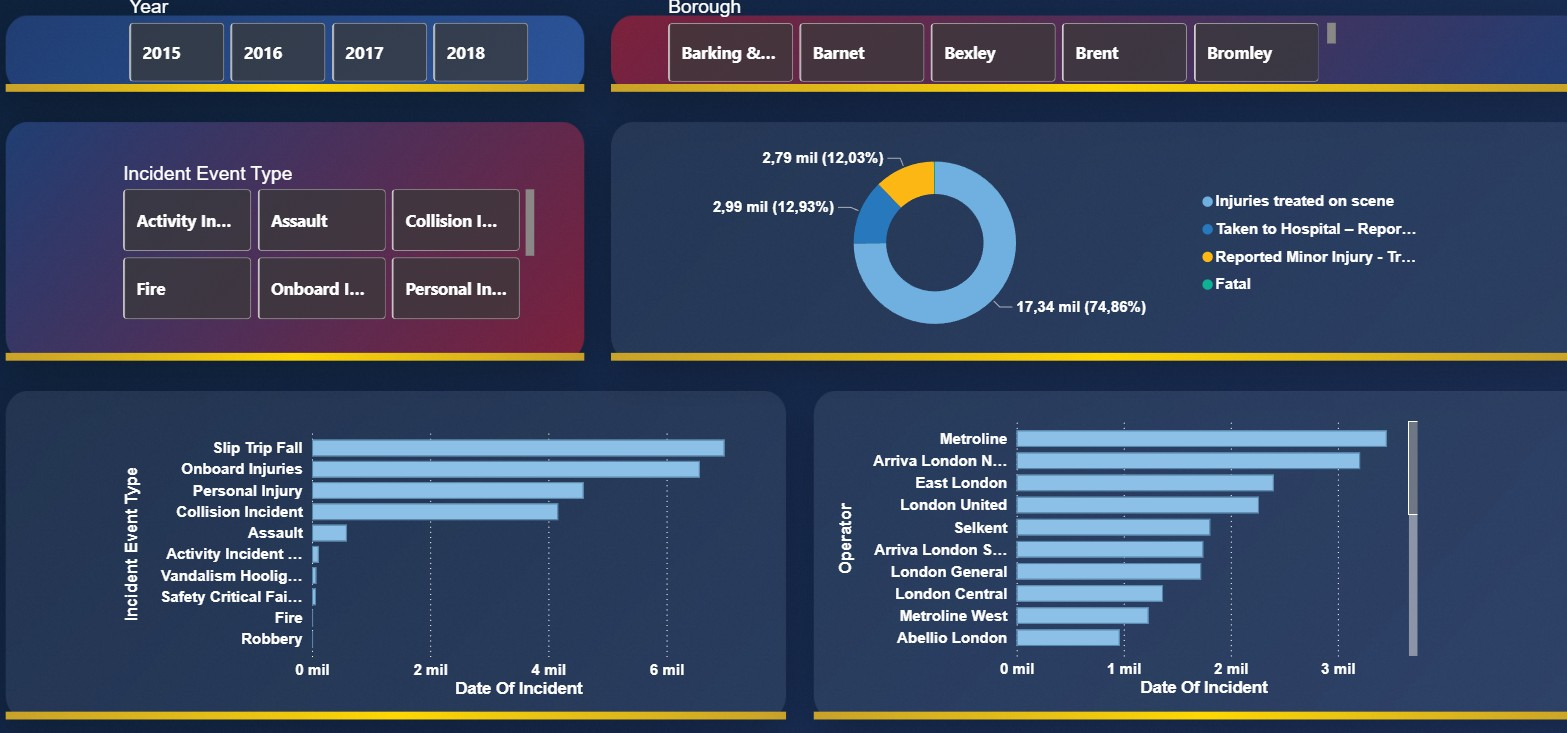

The dashboard page shown, as its layout file describes it:
{"tool":"powerbi","page":{"name":"Report","canvas":[1280,720],"ordinal":2},"visuals":[{"type":"donutChart","title":" Injury Results","fields":{"Category":["Sheet1.Injury Result Description"],"Y":["CountNonNull(Sheet1.Injury Result Description)"]},"box":[527.1,133.3,746.4,210.6],"z":0},{"type":"clusteredBarChart","title":"Event Type","fields":{"Category":["Sheet1.Incident Event Type"],"Y":["CountNonNull(Sheet1.Date Of Incident)"]},"box":[0,407.5,609.4,275.4],"z":1000},{"type":"clusteredBarChart","title":" Incident by Operator","fields":{"Category":["Sheet1.Operator"],"Y":["CountNonNull(Sheet1.Date Of Incident)"]},"box":[690.4,398.8,570.7,284.1],"z":2000},{"type":"advancedSlicerVisual","fields":{"Values":["Sheet1.Date Of Incident.Variación.Jerarquía de fechas.Año"]},"box":[6.2,0,396.3,88.5],"z":3000},{"type":"advancedSlicerVisual","fields":{"Values":["Sheet1.Borough"]},"box":[527.1,0,655.5,88.5],"z":4000},{"type":"advancedSlicerVisual","fields":{"Values":["Sheet1.Incident Event Type"]},"box":[0,160.8,407.5,158.3],"z":5000}]}

Visuals, with their boxes on the page's 1280x720 design canvas (x1, y1, x2, y2). These are canvas units, not pixel positions in the 1567x733 screenshot, which may show the page scaled, cropped or inside an application window:
" Injury Results" donutChart: <box>527,133,1274,344</box>
"Event Type" clusteredBarChart: <box>0,408,609,683</box>
" Incident by Operator" clusteredBarChart: <box>690,399,1261,683</box>
advancedSlicerVisual - Sheet1.Date Of Incident.Variación.Jerarquía de fechas.Año: <box>6,0,402,88</box>
advancedSlicerVisual - Sheet1.Borough: <box>527,0,1183,88</box>
advancedSlicerVisual - Sheet1.Incident Event Type: <box>0,161,408,319</box>
